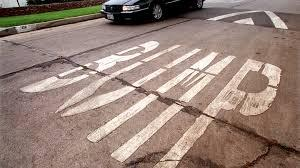Bump: (183, 7, 299, 32)
Pothole: (123, 142, 299, 167)
